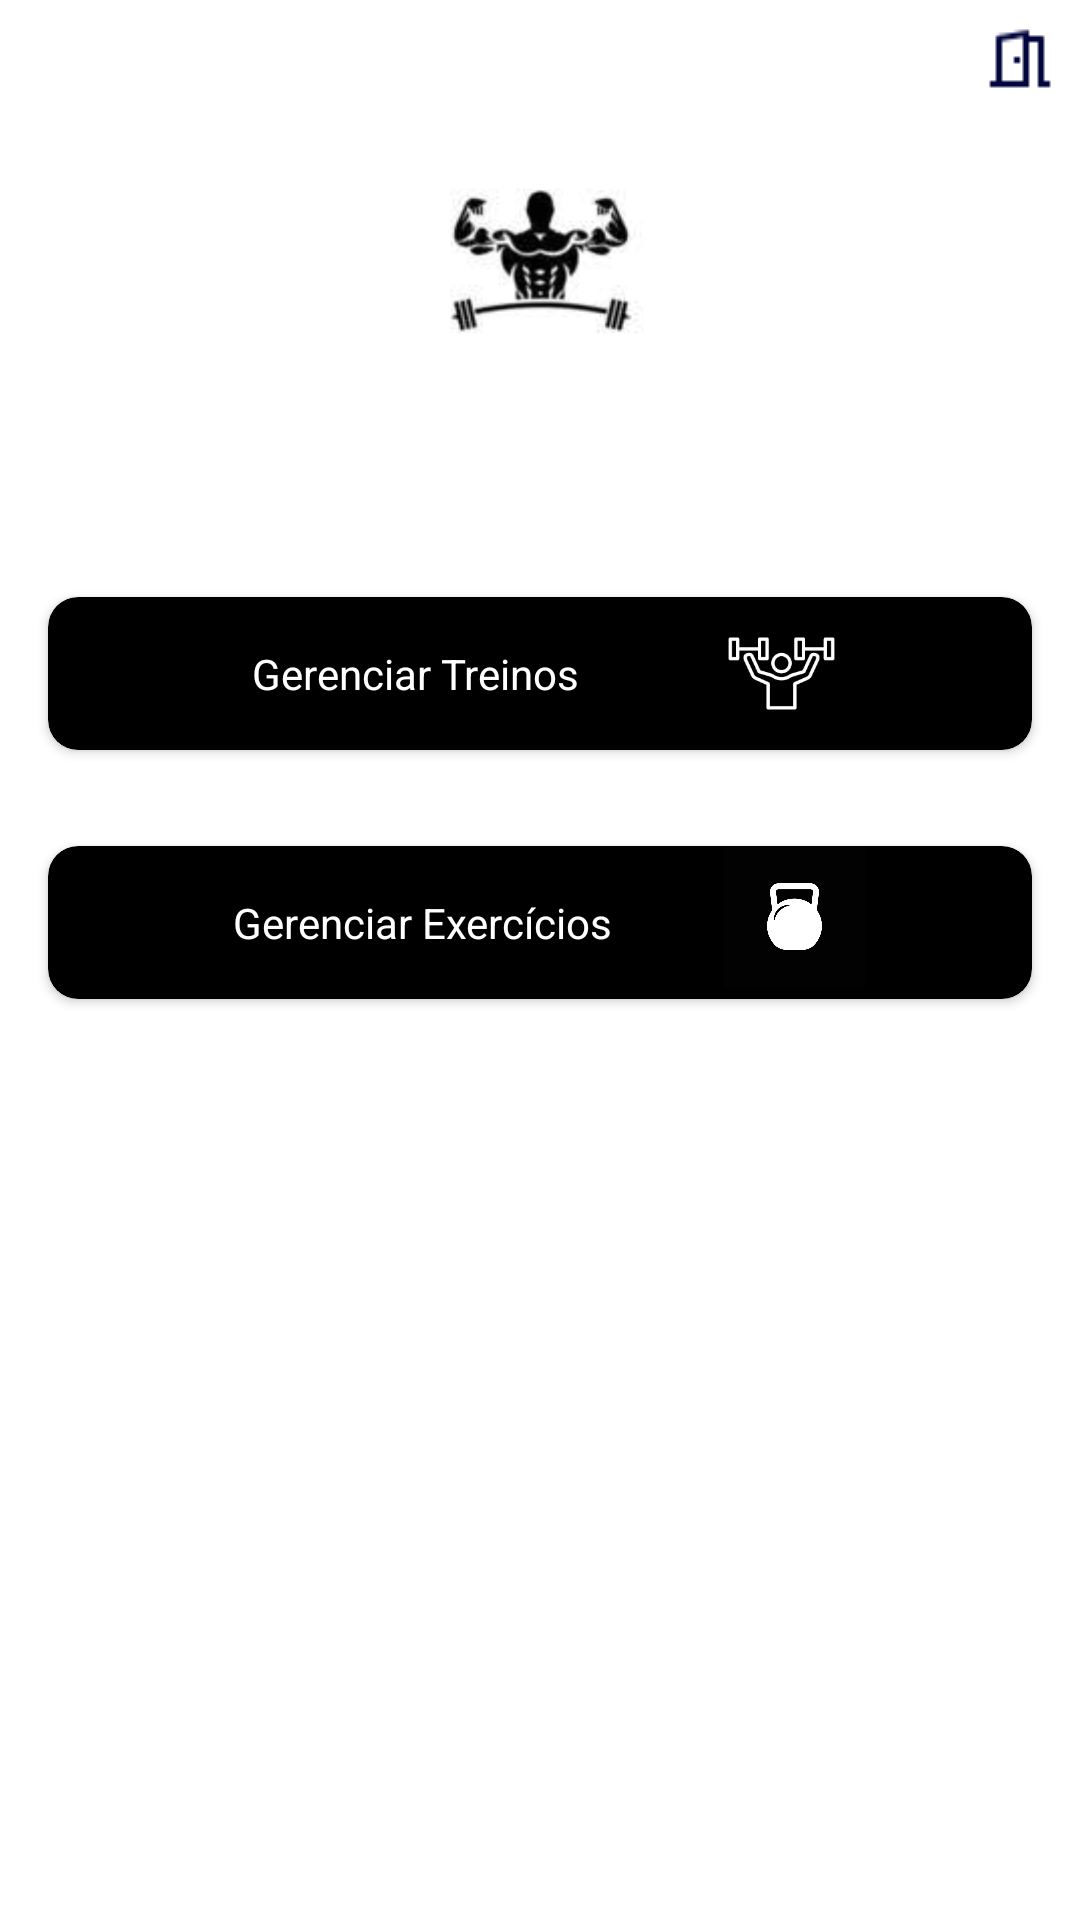

Screen size 1080w x 1920h. Icon name, then its center in pixels as (x,y):
doorexit: (1020,58)
exercicetrain: (794,916)
train: (781,673)
